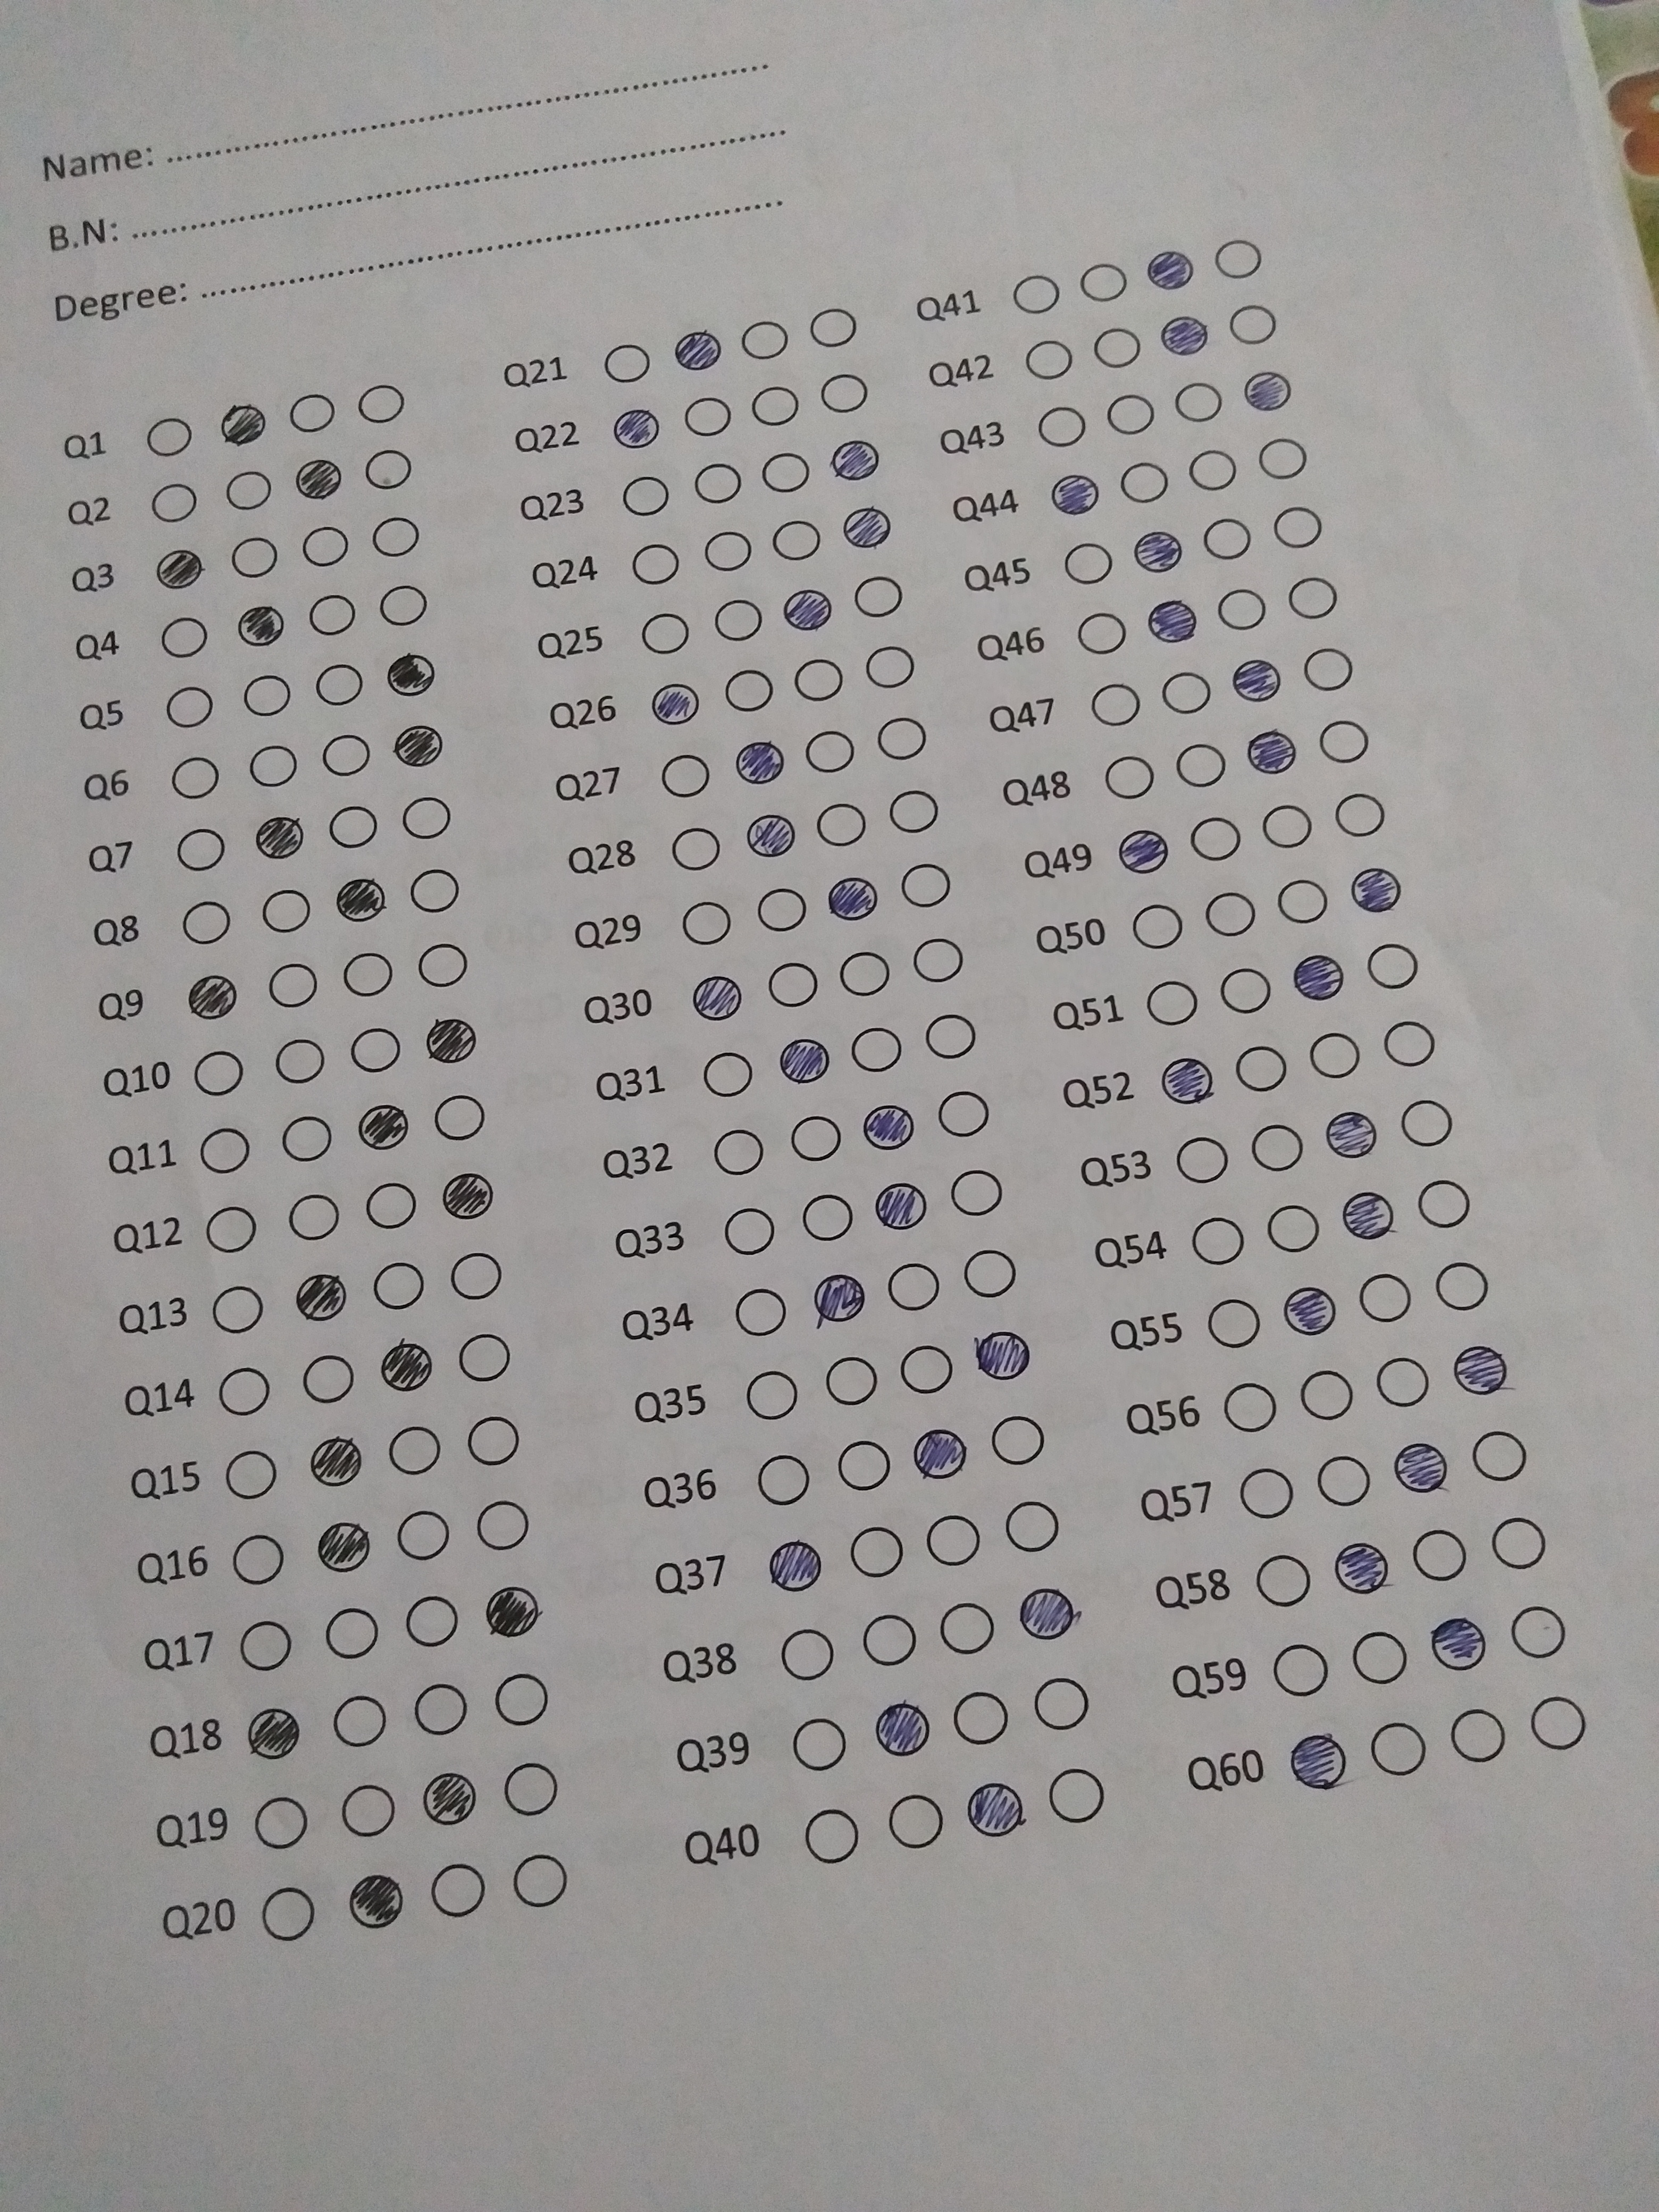not-c: (1234, 1460, 1298, 1521), (1349, 1627, 1413, 1688), (1507, 1601, 1572, 1662), (336, 1780, 401, 1841), (249, 1792, 314, 1853), (410, 1681, 474, 1742), (950, 1688, 1012, 1749), (788, 1714, 850, 1775), (1486, 1514, 1549, 1575), (1253, 1550, 1316, 1611), (1408, 1527, 1471, 1588), (1046, 1766, 1108, 1827), (1450, 1705, 1513, 1766), (509, 1851, 572, 1912), (427, 1860, 490, 1921), (936, 1599, 999, 1660), (775, 1625, 840, 1684), (1028, 1674, 1093, 1733), (1366, 1719, 1431, 1778), (1525, 1693, 1589, 1752), (256, 1885, 321, 1944), (490, 1670, 554, 1730), (857, 1613, 922, 1672), (802, 1806, 864, 1865), (1269, 1641, 1331, 1700), (502, 1761, 565, 1820), (329, 1693, 392, 1752), (885, 1792, 948, 1851), (742, 1364, 802, 1425), (845, 1522, 904, 1583), (922, 1510, 981, 1571), (1263, 1200, 1323, 1261), (1188, 1212, 1248, 1273), (1469, 1425, 1528, 1486), (394, 1507, 453, 1568), (755, 1451, 814, 1510), (833, 1439, 892, 1498), (988, 1411, 1047, 1470), (1002, 1498, 1061, 1557), (1432, 1256, 1492, 1315), (1356, 1268, 1415, 1327), (1204, 1294, 1263, 1353), (1373, 1352, 1432, 1411), (1297, 1367, 1356, 1426), (1222, 1378, 1281, 1437), (455, 1327, 514, 1386), (214, 1364, 274, 1423), (221, 1447, 281, 1507), (462, 1411, 521, 1470), (474, 1496, 533, 1555), (228, 1531, 288, 1590), (403, 1592, 462, 1651), (385, 1421, 443, 1482), (1316, 1451, 1373, 1510), (298, 1350, 355, 1409), (322, 1604, 380, 1663), (235, 1616, 293, 1676), (721, 1205, 781, 1261), (786, 1111, 845, 1167), (200, 1123, 260, 1179), (202, 1204, 261, 1259), (897, 1343, 957, 1399), (885, 1258, 945, 1313), (1218, 963, 1277, 1019), (1364, 941, 1424, 996), (1305, 1028, 1364, 1083), (1230, 1042, 1290, 1097), (286, 1190, 343, 1245), (1398, 1096, 1455, 1151), (936, 1090, 995, 1144), (277, 1111, 336, 1165), (446, 1249, 505, 1303), (368, 1259, 427, 1313), (361, 1177, 420, 1231), (211, 1284, 270, 1338), (948, 1165, 1007, 1219), (960, 1245, 1019, 1299), (821, 1353, 880, 1407), (1143, 977, 1202, 1031), (1248, 1122, 1307, 1176), (1171, 1134, 1230, 1188), (1415, 1177, 1474, 1231), (800, 1190, 857, 1244), (430, 1090, 488, 1144), (732, 1285, 789, 1339), (1380, 1017, 1438, 1071), (324, 801, 380, 855), (406, 864, 462, 918), (763, 958, 819, 1012), (709, 1125, 765, 1179), (1188, 812, 1243, 866), (1260, 799, 1316, 852), (899, 860, 955, 913), (173, 824, 228, 876), (258, 885, 314, 937), (179, 895, 235, 948), (413, 941, 469, 993), (340, 948, 396, 1000), (265, 960, 321, 1012), (349, 1022, 404, 1075), (272, 1036, 328, 1089), (190, 1049, 246, 1101), (1129, 900, 1185, 953), (1202, 888, 1258, 941), (1276, 876, 1331, 928), (910, 935, 965, 988), (836, 948, 892, 1000), (922, 1012, 978, 1064), (849, 1024, 904, 1076), (701, 1049, 756, 1101), (657, 751, 714, 801), (1159, 667, 1216, 718), (399, 791, 453, 843), (755, 885, 810, 935), (1175, 738, 1230, 789), (814, 801, 871, 850), (1101, 754, 1159, 803), (680, 899, 735, 948), (667, 824, 723, 873), (887, 787, 943, 836), (1089, 681, 1145, 730), (1298, 646, 1354, 695), (1317, 718, 1373, 766), (1333, 791, 1389, 840), (638, 610, 694, 655), (1270, 503, 1326, 549), (721, 669, 777, 714), (352, 380, 408, 425), (284, 390, 340, 435), (143, 415, 199, 460), (312, 662, 368, 707), (317, 732, 373, 777), (711, 597, 767, 643), (699, 529, 755, 575), (688, 460, 744, 505), (620, 472, 676, 517), (1255, 435, 1310, 481), (1033, 404, 1089, 449), (1089, 324, 1145, 369), (1009, 272, 1065, 317), (1077, 260, 1133, 305), (1201, 516, 1255, 561), (1063, 542, 1117, 587), (852, 573, 906, 618), (864, 644, 918, 690), (791, 657, 845, 702), (1288, 577, 1342, 622), (1216, 585, 1270, 631), (1073, 610, 1127, 655), (875, 714, 929, 759), (803, 730, 857, 775), (362, 448, 416, 493), (221, 469, 275, 514), (146, 479, 200, 524), (368, 514, 422, 559), (296, 524, 350, 570), (375, 582, 429, 627), (303, 592, 357, 637), (239, 672, 293, 718), (164, 685, 218, 730), (244, 742, 298, 787), (169, 756, 223, 801), (627, 542, 681, 587), (760, 448, 814, 493), (749, 381, 803, 427), (680, 395, 734, 441), (809, 305, 863, 350), (739, 319, 793, 364), (599, 340, 653, 385), (770, 517, 824, 563), (1187, 446, 1241, 491), (1117, 458, 1171, 503), (1173, 378, 1227, 423), (1103, 392, 1157, 437), (1227, 301, 1281, 347), (1021, 336, 1075, 381), (1211, 237, 1265, 282), (227, 535, 282, 578), (157, 617, 211, 660)
taken-c: (1427, 1613, 1490, 1674), (965, 1780, 1026, 1841), (347, 1874, 408, 1933), (1290, 1733, 1351, 1791), (873, 1700, 934, 1757), (765, 1538, 824, 1592), (861, 1099, 920, 1153), (1338, 1188, 1398, 1242), (315, 1519, 375, 1573), (307, 1435, 366, 1489), (1018, 1587, 1077, 1641), (690, 972, 748, 1026), (777, 1035, 835, 1089), (1391, 1440, 1448, 1494), (1323, 1108, 1380, 1162), (1161, 1052, 1218, 1106), (1290, 951, 1347, 1005), (824, 873, 882, 927), (1349, 864, 1406, 918), (293, 1270, 350, 1324), (439, 1170, 497, 1224), (423, 1015, 481, 1069), (185, 970, 242, 1024), (1333, 1541, 1391, 1595), (1453, 1343, 1511, 1397), (420, 1771, 477, 1825), (246, 1709, 303, 1763), (484, 1585, 542, 1639), (910, 1428, 967, 1482), (974, 1327, 1032, 1381), (875, 1181, 932, 1235), (1281, 1285, 1338, 1338), (378, 1341, 436, 1393), (355, 1101, 413, 1153), (812, 1273, 870, 1325), (335, 874, 389, 927), (383, 650, 437, 702), (235, 601, 289, 653), (152, 542, 206, 594), (742, 808, 796, 860), (1244, 728, 1298, 780), (1230, 655, 1284, 707), (1147, 599, 1201, 651), (1241, 366, 1295, 418), (829, 435, 884, 488), (1143, 244, 1197, 296), (216, 399, 270, 451), (1159, 310, 1211, 362), (253, 813, 307, 864), (390, 721, 444, 772), (291, 456, 345, 507), (734, 738, 788, 789), (781, 583, 835, 634), (840, 503, 894, 554), (1117, 826, 1171, 876), (1131, 528, 1185, 578), (1049, 470, 1103, 521), (612, 402, 666, 453), (817, 368, 870, 418), (648, 678, 701, 728)
